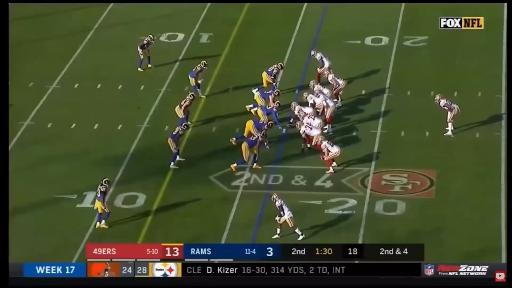Helmet: (298, 111, 306, 121), (434, 94, 442, 103), (290, 102, 298, 111), (271, 193, 279, 202), (101, 178, 109, 186), (187, 92, 195, 100), (295, 121, 302, 130), (309, 81, 316, 89), (181, 123, 189, 130), (277, 62, 284, 70), (147, 34, 154, 41), (273, 89, 280, 96), (274, 101, 281, 108), (311, 50, 317, 58), (303, 92, 309, 100), (201, 61, 207, 69), (268, 121, 274, 128)
Jersey: (314, 84, 334, 106), (259, 106, 280, 126), (168, 127, 184, 152), (253, 87, 274, 105), (275, 199, 292, 217), (300, 123, 321, 137), (176, 99, 191, 117), (96, 183, 108, 205), (303, 115, 323, 128), (328, 74, 344, 90), (306, 94, 324, 108), (321, 141, 340, 153), (315, 53, 330, 68), (257, 87, 273, 101), (170, 127, 183, 144), (251, 119, 266, 133), (189, 65, 204, 79), (439, 99, 456, 111), (265, 66, 279, 79), (294, 106, 313, 115), (246, 136, 260, 148), (314, 84, 329, 95), (139, 38, 152, 50)
Player: (271, 194, 305, 240), (231, 132, 266, 170), (310, 82, 335, 133), (230, 119, 273, 145), (435, 95, 459, 135), (168, 124, 189, 168), (320, 137, 341, 173), (95, 178, 110, 228), (296, 122, 321, 151), (189, 60, 208, 97), (326, 71, 346, 106), (175, 92, 195, 127), (256, 101, 281, 128), (311, 51, 331, 83), (289, 102, 315, 126), (138, 35, 154, 71), (262, 63, 284, 87), (252, 87, 280, 105), (303, 93, 324, 114), (299, 113, 323, 128), (310, 81, 331, 97), (291, 102, 315, 115)
